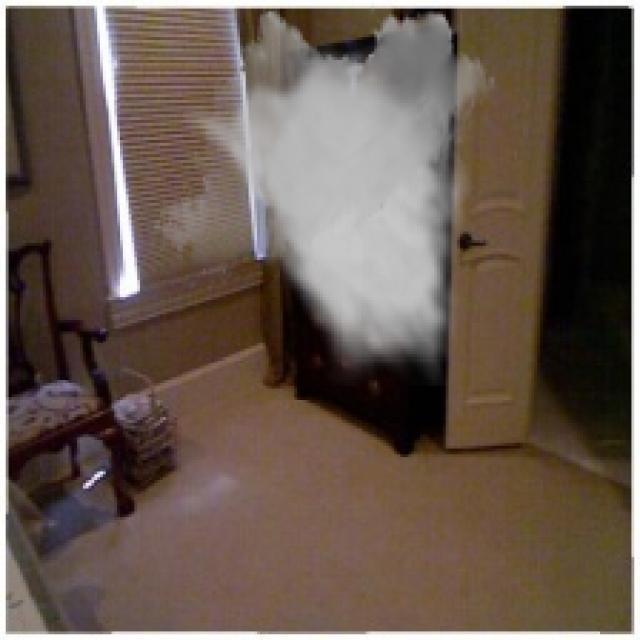smoke: (152, 0, 497, 386)
